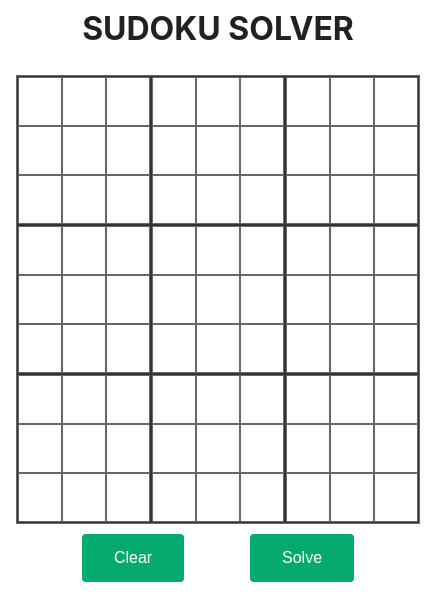
Test: App › sudoku board solved
The image size is (437, 599).
expect the 1st number field with test id "cell" is empty: met, box left=23, top=82, right=57, bottom=121
Click the button with test id "solve-button": (302, 558) left=250, top=534, right=354, bottom=582
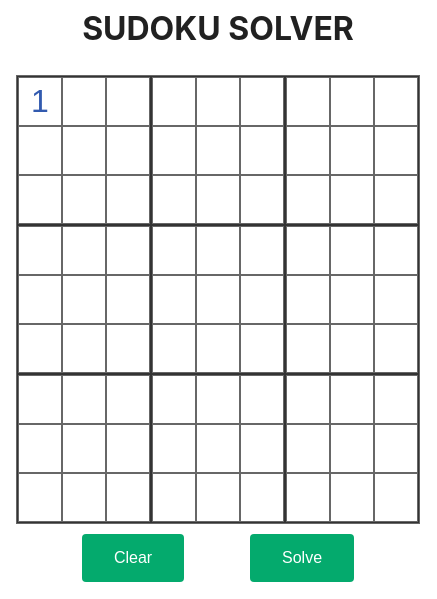
expect the 1st number field with test id "cell" holds "1": met, box left=23, top=82, right=57, bottom=121
